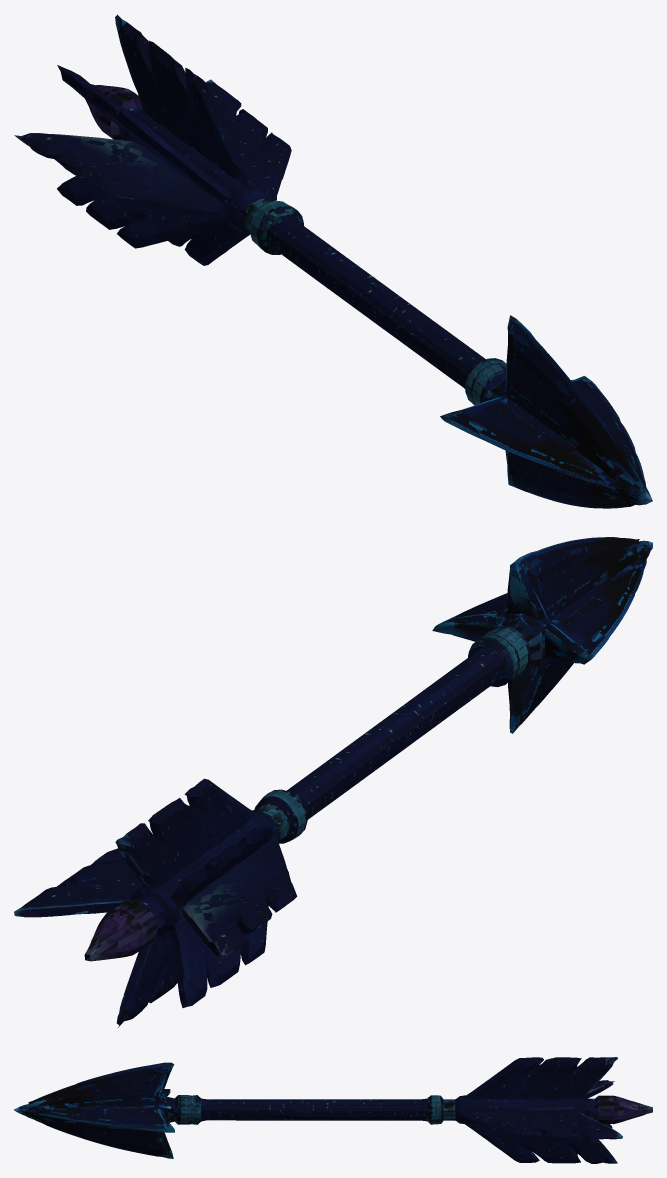
File: arrow.obj
3 views of the same model, one above another, from view 1: azimuth 30°, elevation 25°; view 2: azimuth 150°, elevation 25°; view 3: azimuth 270°, elevation 25° (orthographic). The views are drawn at different scales.
Visible parts, largest first — view 1: arrow; view 2: arrow; view 3: arrow.
Boxes of the visible parts, left/top/right/bottom form: arrow: left=14, top=14, right=652, bottom=508; arrow: left=14, top=537, right=652, bottom=1027; arrow: left=14, top=1057, right=652, bottom=1163.
Size of the model in its own units: 0.0749 by 0.0664 by 0.3594.
